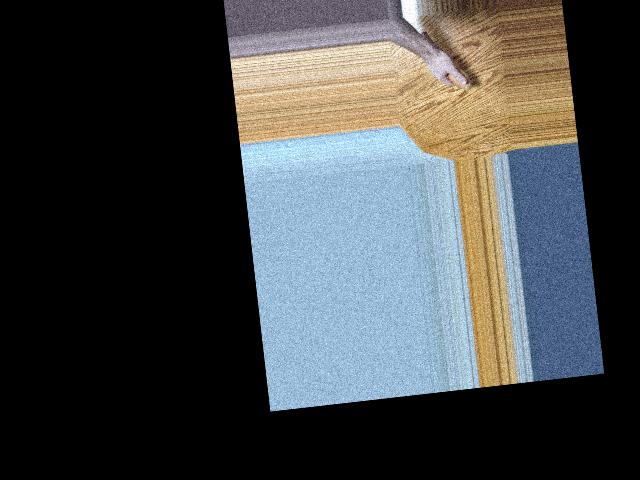sweet_potato: (419, 25, 472, 94)
